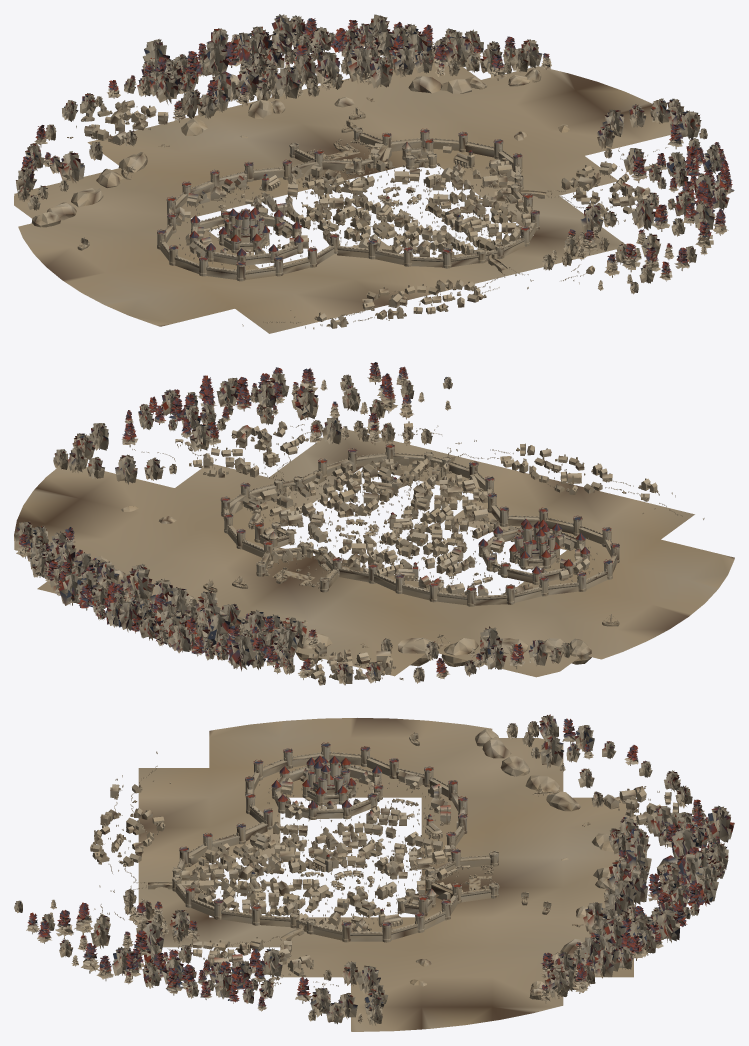
File: city.glb
3 views of the same model, one above another, from view 1: azimuth 30°, elevation 25°; view 2: azimuth 150°, elevation 25°; view 3: azimuth 270°, elevation 25° (orthographic). The views are drawn at different scales.
Parts seen in each view (by area): view 1: model_0; view 2: model_0; view 3: model_0.
Boxes of the visible parts, left/top/right/bottom form: model_0: left=14, top=14, right=734, bottom=333; model_0: left=14, top=362, right=734, bottom=685; model_0: left=14, top=714, right=734, bottom=1031.
Bounding box in the file's own units: 84.62 × 8.41 × 82.08.
